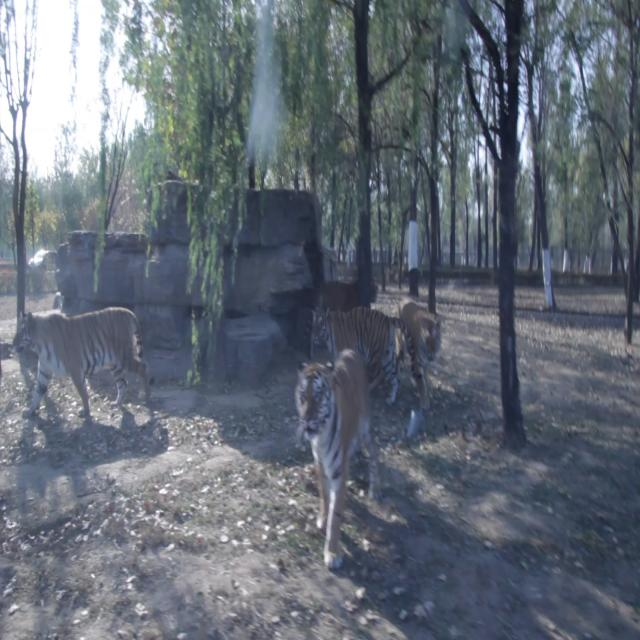Tiger: (294, 341, 394, 573), (12, 300, 174, 416), (308, 300, 407, 396), (398, 290, 445, 400), (314, 275, 383, 314)
